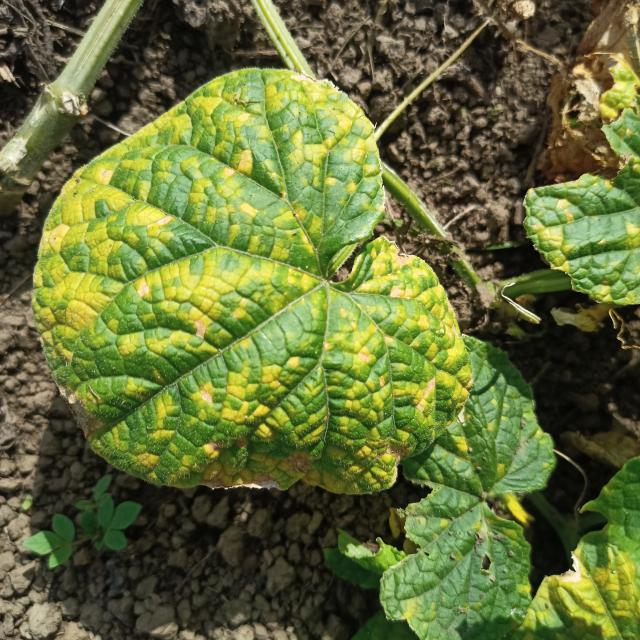disease_cucumber: (42, 79, 468, 485)
